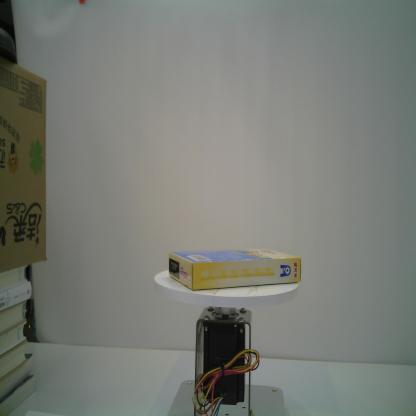Dessert: (167, 244, 304, 292)
